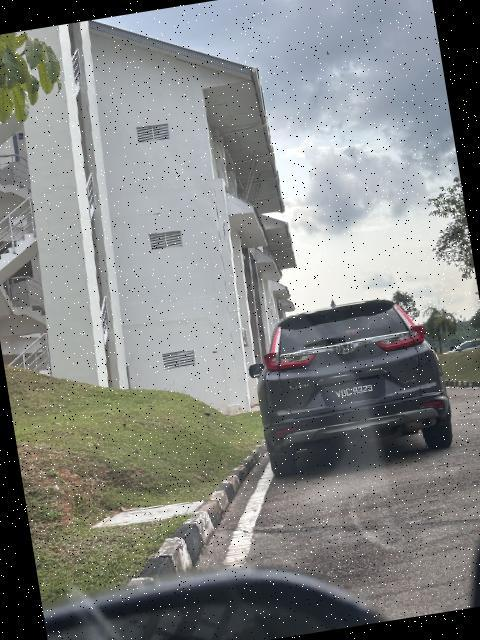License_Plate: (325, 378, 390, 410)
VUC9323: (325, 378, 390, 410)
car: (243, 288, 461, 481)
